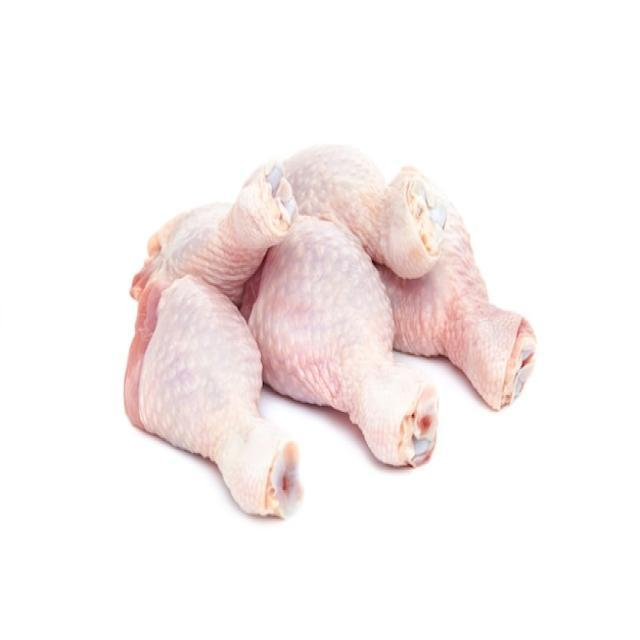leg: (248, 206, 438, 477), (122, 272, 298, 542), (377, 190, 538, 413), (125, 158, 294, 304), (280, 135, 442, 281)
